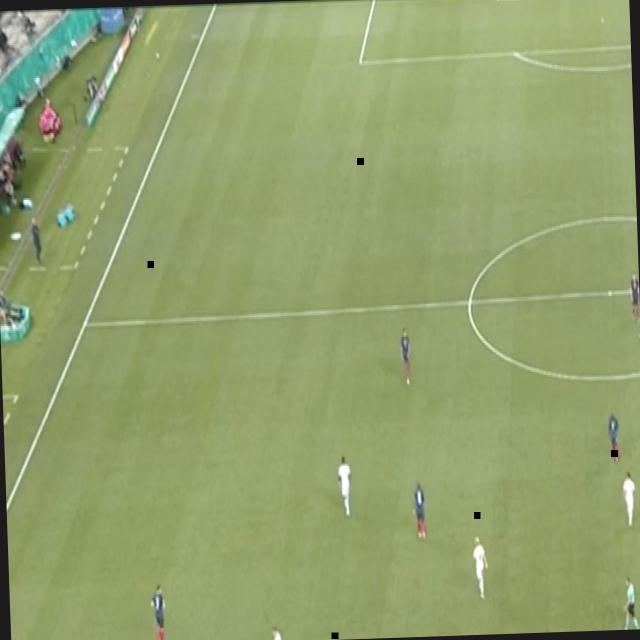player-white: (467, 531, 489, 605), (146, 575, 169, 640), (333, 453, 353, 520), (618, 572, 640, 630), (410, 476, 428, 542), (621, 466, 639, 530), (603, 407, 622, 466), (398, 322, 413, 388), (623, 269, 640, 326), (263, 621, 289, 640), (626, 28, 632, 77), (636, 286, 640, 348), (625, 626, 640, 630)
